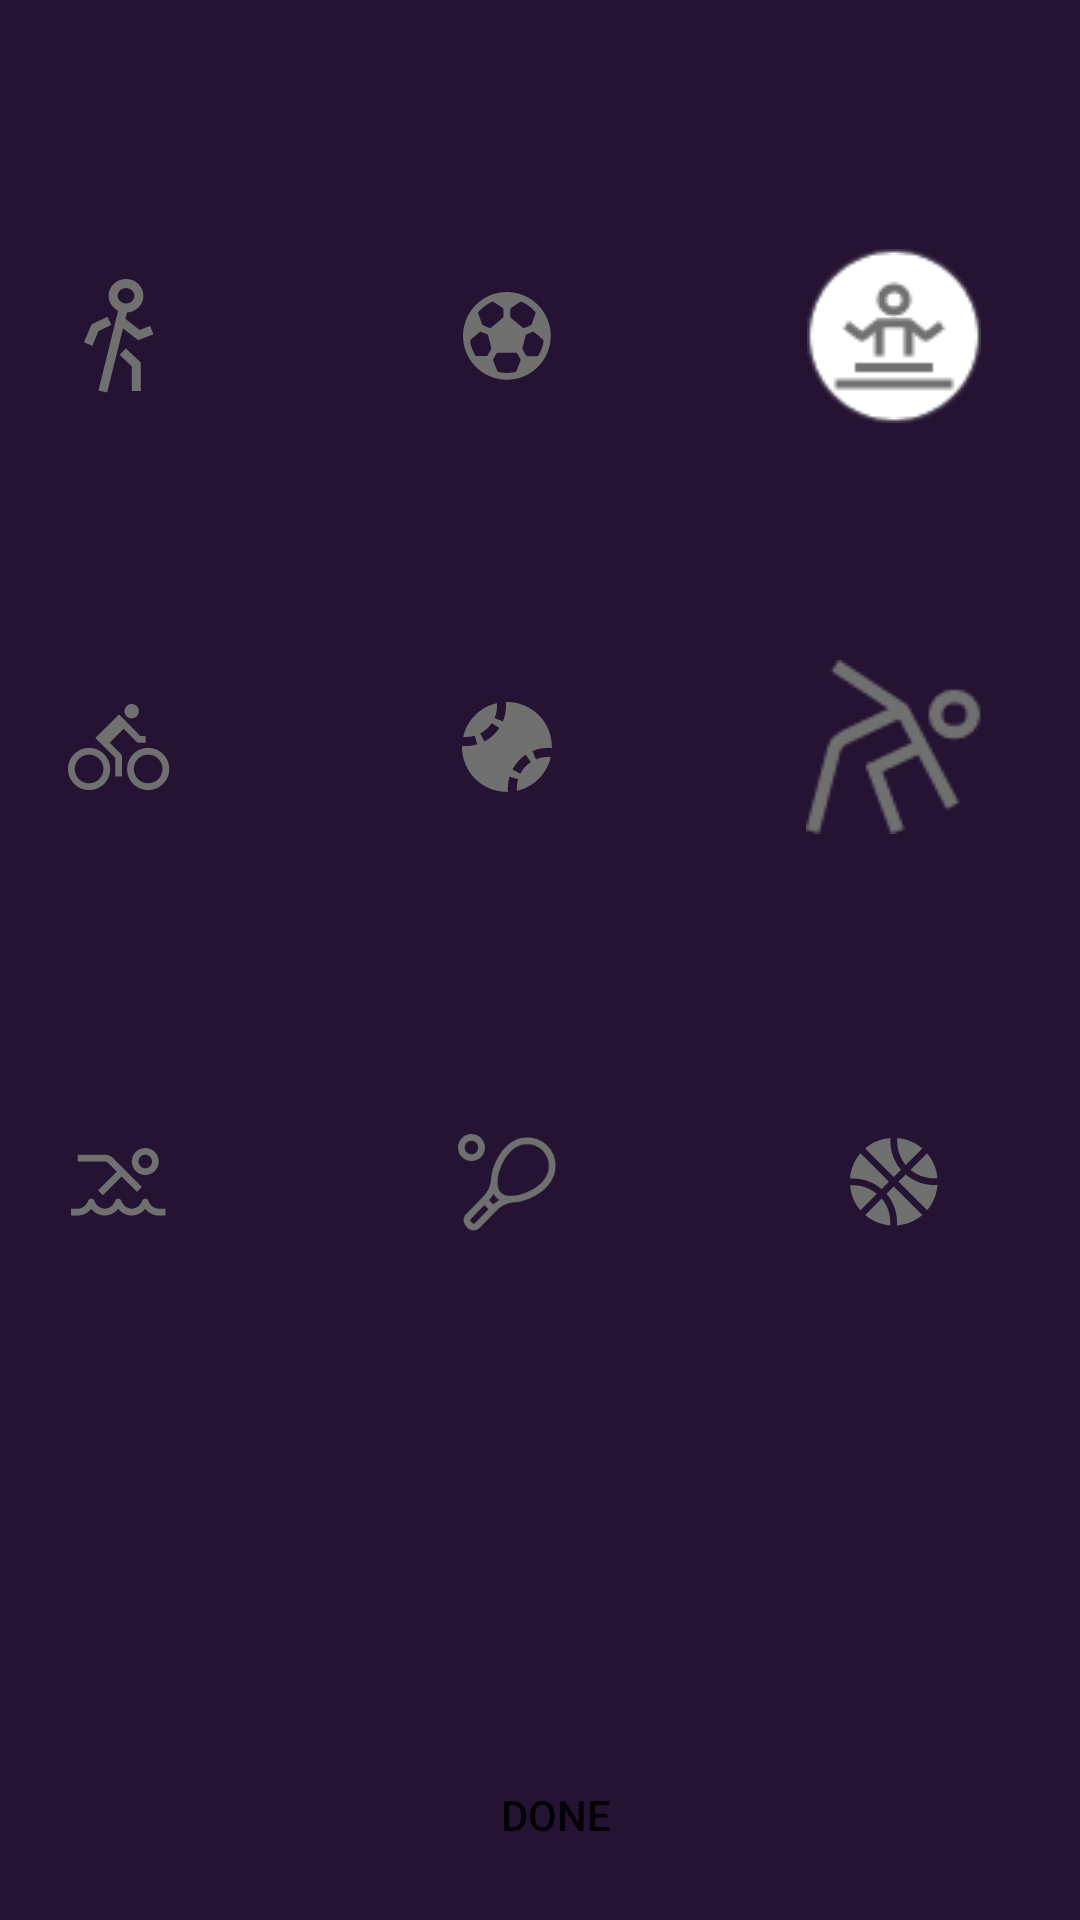

Named icons in this screenshot (1080px×1920px) and their bounding boxes, [left=x1, top=y1, right=x2, bottom=y2]:
basketball: [left=850, top=1138, right=938, bottom=1226]
bike: [left=68, top=704, right=169, bottom=790]
bxsbaseball: [left=462, top=702, right=552, bottom=792]
football: [left=463, top=292, right=551, bottom=380]
stretching: [left=806, top=660, right=981, bottom=834]
swim: [left=71, top=1148, right=166, bottom=1216]
tennis: [left=458, top=1134, right=556, bottom=1231]
walk: [left=84, top=279, right=153, bottom=393]
yoga: [left=807, top=249, right=981, bottom=423]
